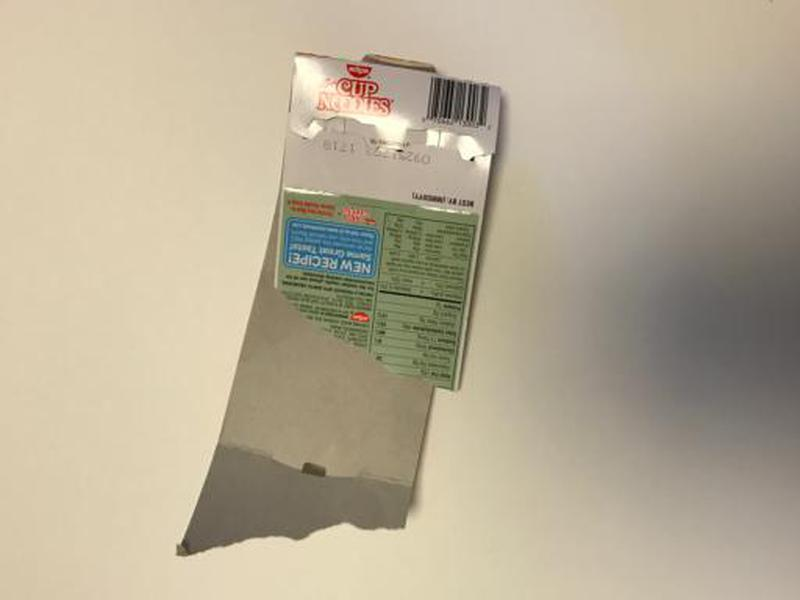paper: (171, 44, 507, 573)
